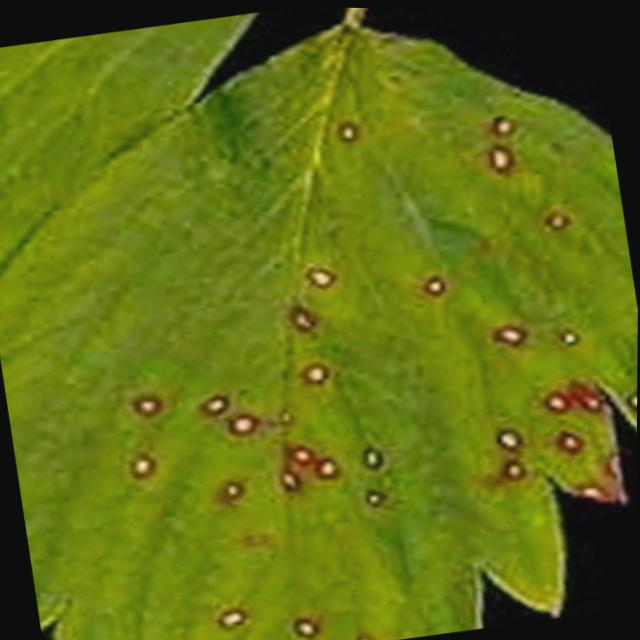Leaf Spot: (0, 21, 638, 640)
